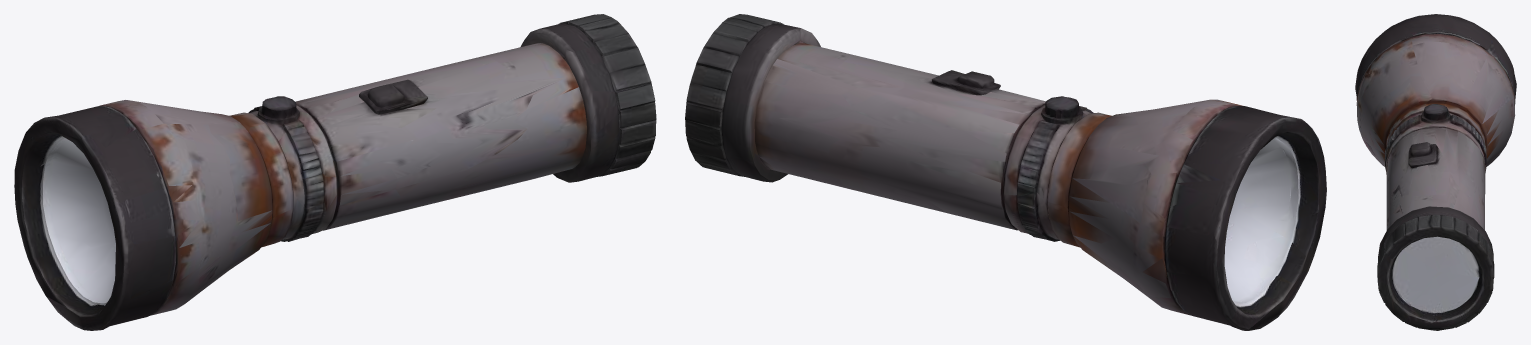
File: tool_flashlight_ruchnoy_idle.glb
3 views of the same model, side by side, from view 1: azimuth 30°, elevation 25°; view 2: azimuth 150°, elevation 25°; view 3: azimuth 270°, elevation 25° (orthographic). The views are drawn at different scales.
Parts seen in each view (by area): view 1: tripo_node_cce44d98-e275-4c5f-93fe-3cf445a5ff5a; view 2: tripo_node_cce44d98-e275-4c5f-93fe-3cf445a5ff5a; view 3: tripo_node_cce44d98-e275-4c5f-93fe-3cf445a5ff5a.
Boxes of the visible parts, x1,y1,x2,y2 form: tripo_node_cce44d98-e275-4c5f-93fe-3cf445a5ff5a: [14, 14, 656, 330]; tripo_node_cce44d98-e275-4c5f-93fe-3cf445a5ff5a: [685, 14, 1326, 330]; tripo_node_cce44d98-e275-4c5f-93fe-3cf445a5ff5a: [1355, 14, 1516, 330].
Size of the model in its own units: 0.2499 by 0.0866 by 0.0882.
Materials: 1 (1 with a texture image).
